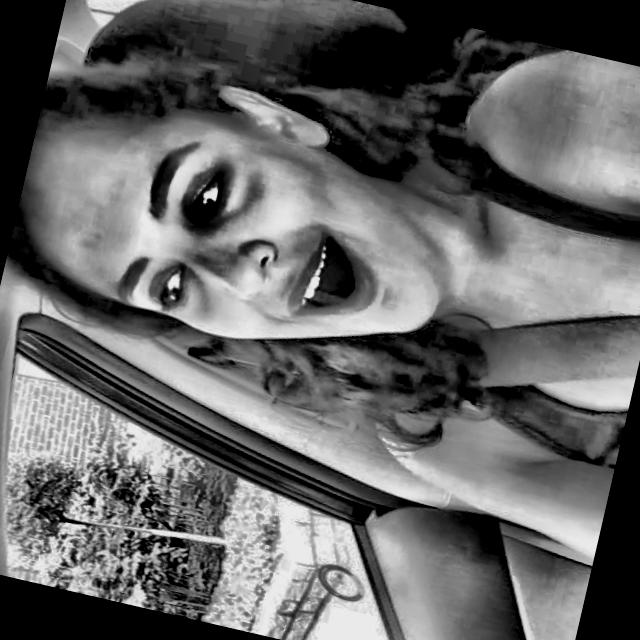open_eyes: (174, 157, 244, 238), (142, 258, 198, 331)
open_mouth: (283, 216, 390, 351)
